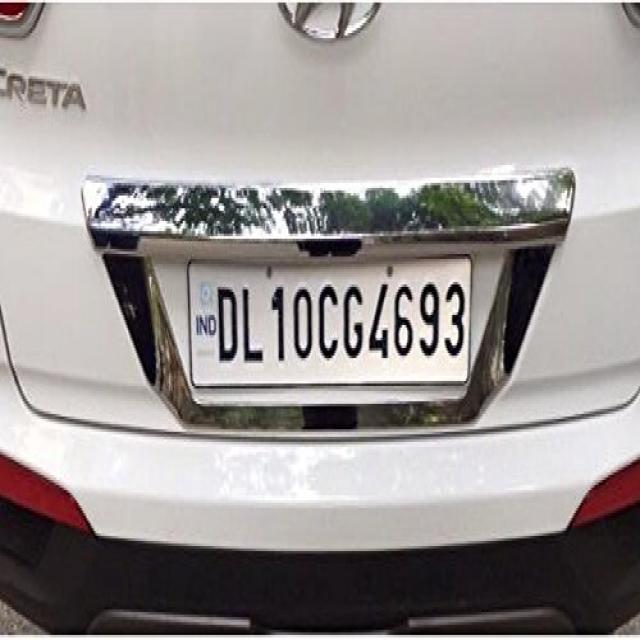license-plate: (184, 249, 470, 388)
